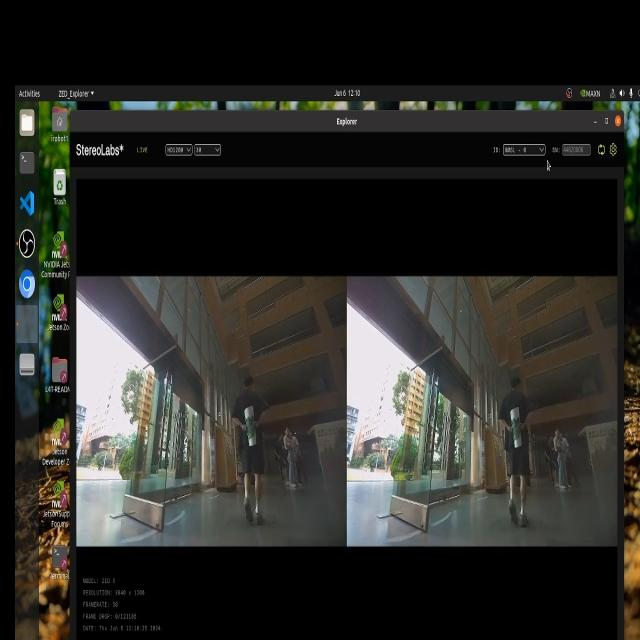green: (506, 413, 524, 447), (244, 412, 261, 440)
